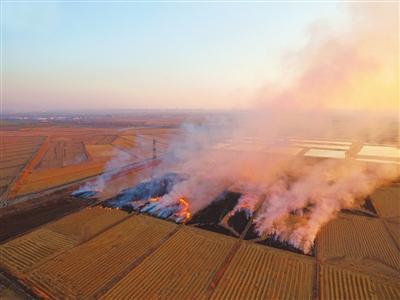smoke: (270, 68, 389, 136), (158, 126, 265, 188), (269, 143, 362, 209)
